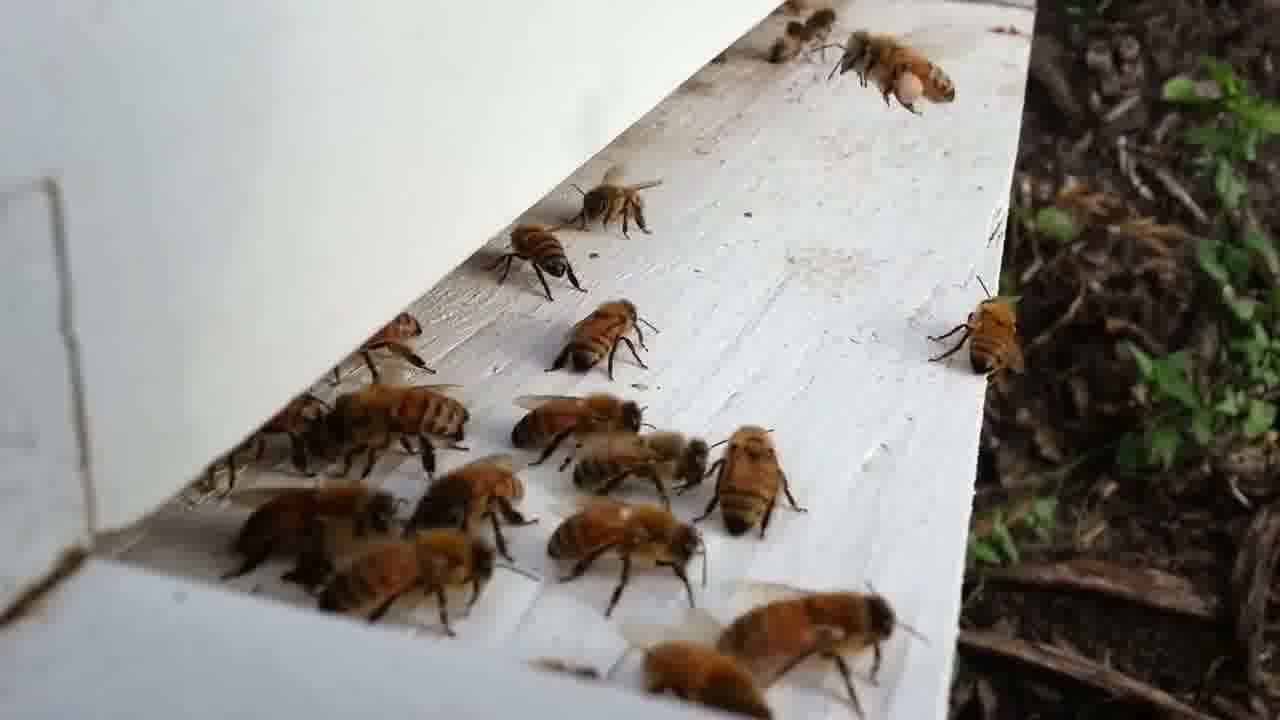pollen: (831, 27, 966, 114)
